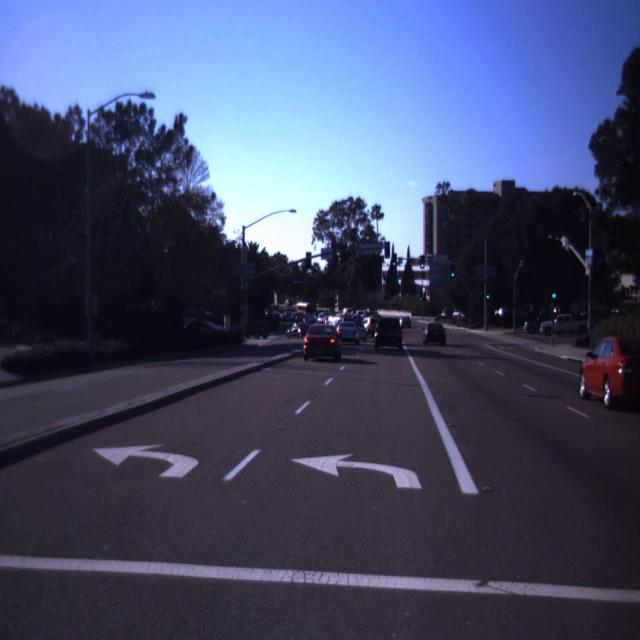go: (421, 263, 424, 267), (452, 273, 454, 276), (486, 296, 488, 298), (553, 295, 555, 297)
go left: (393, 262, 395, 265)
go left traffic light: (391, 253, 397, 266)
go traffic light: (418, 251, 427, 268), (551, 285, 557, 299), (450, 264, 456, 277)
